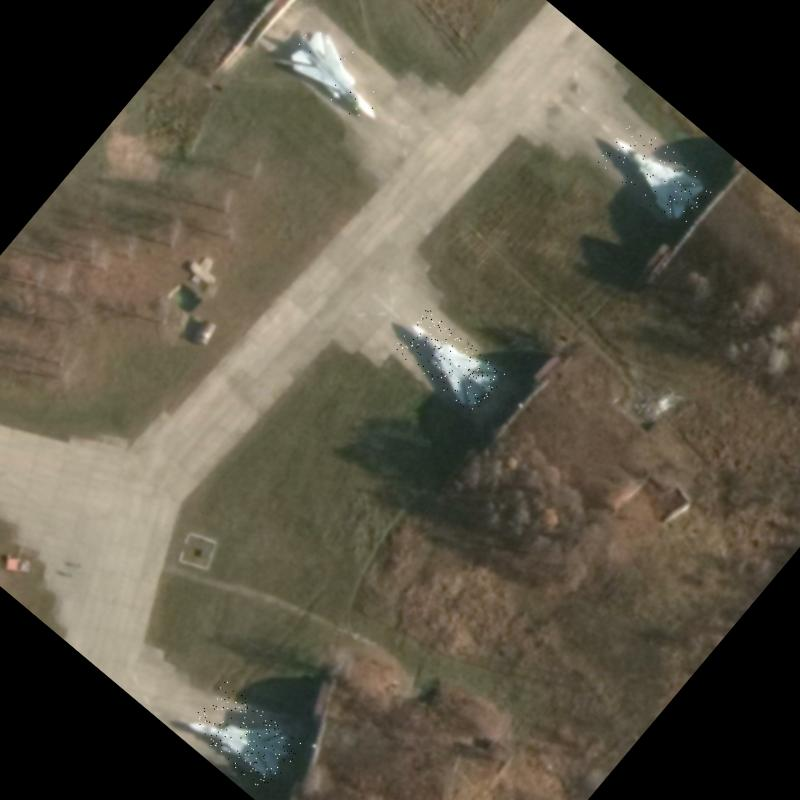A20: (595, 116, 715, 231), (184, 678, 303, 793), (281, 20, 401, 132), (391, 307, 507, 416)
